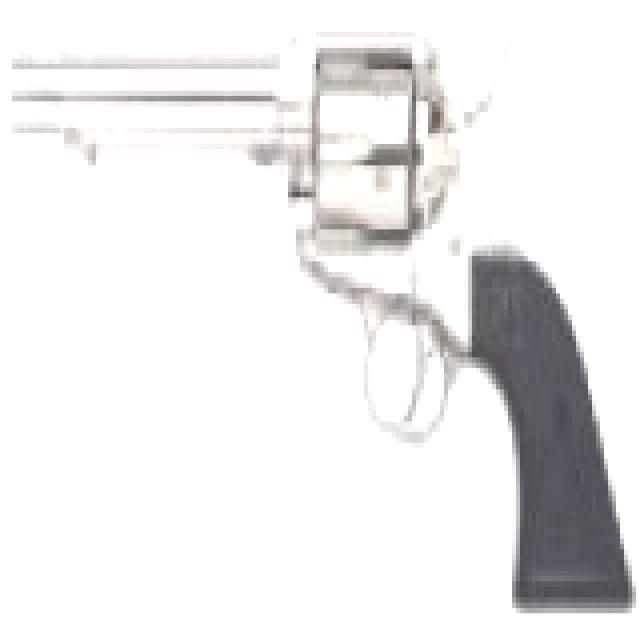pistol: (12, 10, 636, 602)
